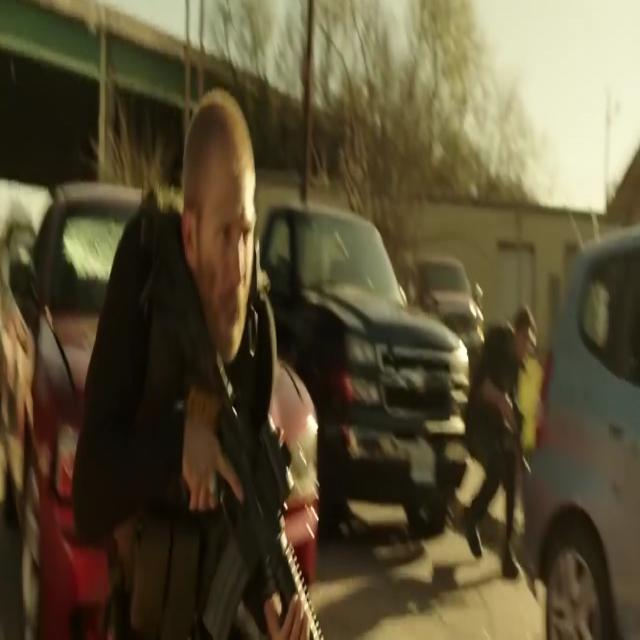Weapon: (154, 267, 319, 640), (491, 358, 533, 475)
